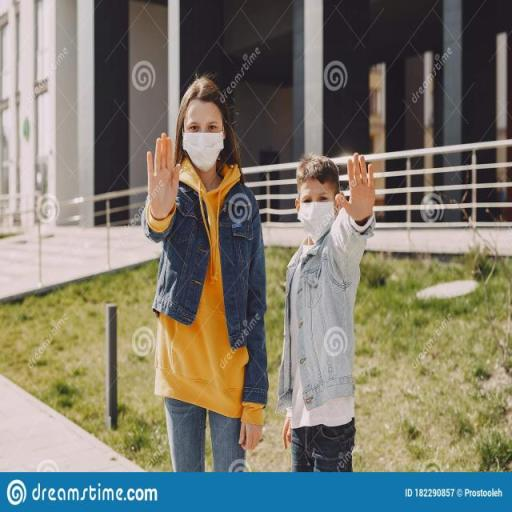person: (141, 74, 267, 475), (279, 151, 378, 473)
